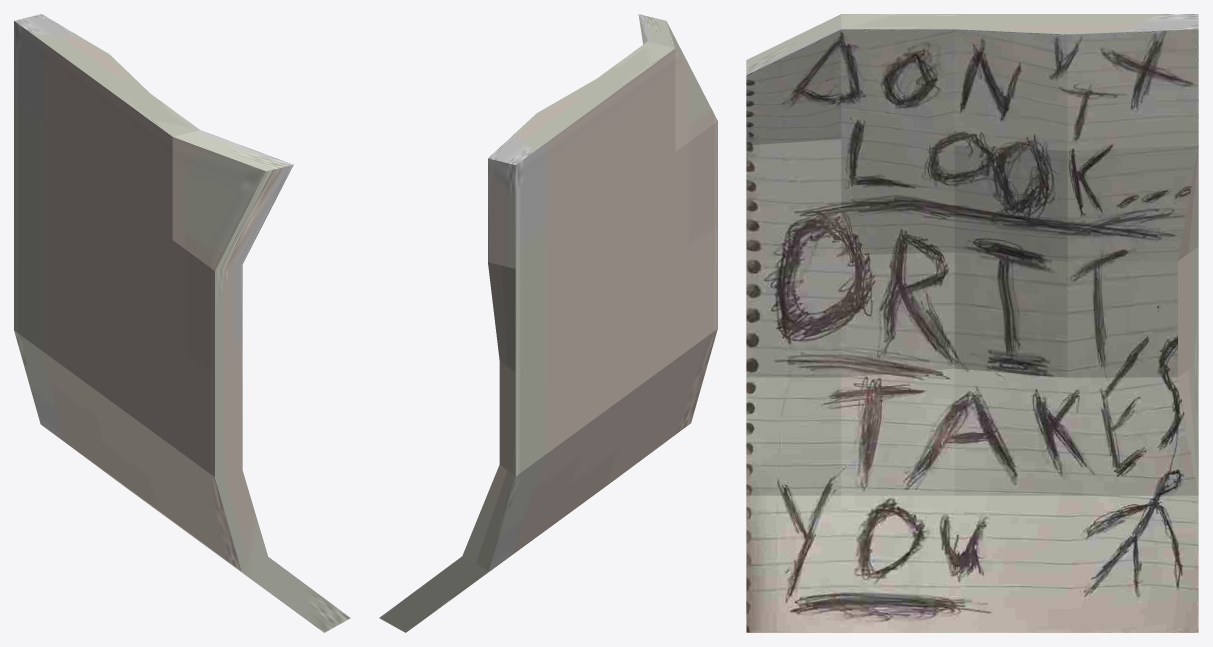
The model's file is NoteMemo.fbx.
3 renders of one model, left to right at view 1: azimuth 30°, elevation 25°; view 2: azimuth 150°, elevation 25°; view 3: azimuth 270°, elevation 25°, orthographic. The views are drawn at different scales.
Visible parts, largest first — view 1: Cube; view 2: Cube; view 3: Cube.
Part boxes in pixels (x1=…): Cube: x1=14, y1=14, x2=350, y2=632; Cube: x1=379, y1=14, x2=717, y2=632; Cube: x1=746, y1=14, x2=1198, y2=632.
Bounding box in the file's own units: 0.7812 × 2.7 × 2.
Materials: 1 (1 with a texture image).
